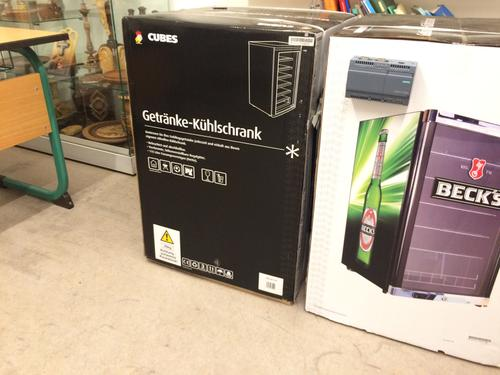iot2000: (345, 55, 419, 108)
